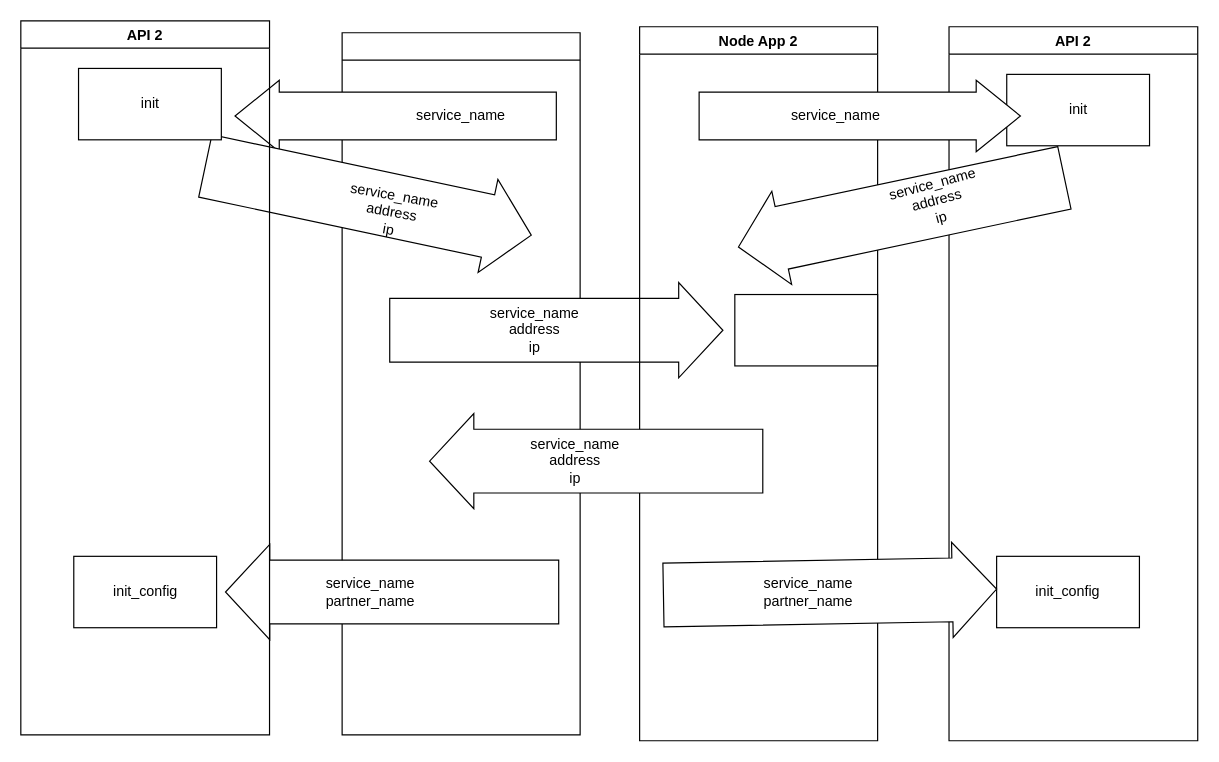
This 1219x762 diagram has some shape labels left out. Each missing label, with the box of its shape:
get-details: (734, 293, 878, 366)
Node App 1: (341, 32, 580, 735)
